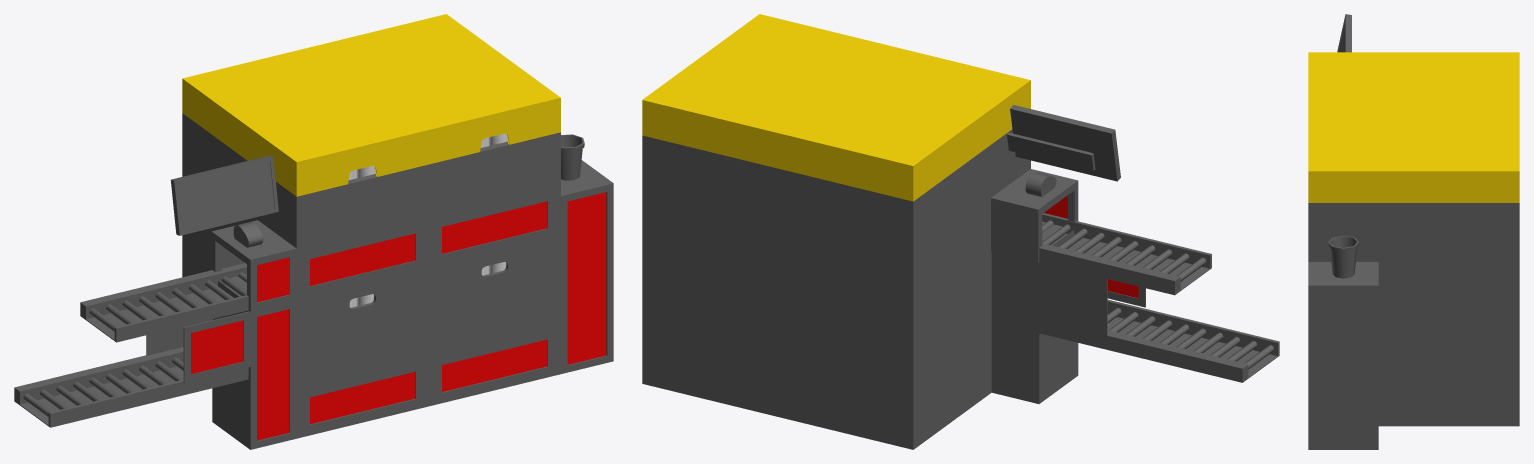
File: verfmachine.fbx
3 views of the same model, side by side, from view 1: azimuth 30°, elevation 25°; view 2: azimuth 150°, elevation 25°; view 3: azimuth 270°, elevation 25° (orthographic). The views are drawn at different scales.
Parts seen in each view (by area): view 1: Cube.005, Cube.003, Cube.004, Cube.001, Cube.002; view 2: Cube.005, Cube.001, Cube.002; view 3: Cube.005, Cube.002, Cube.001.
Boxes of the visible parts, x1=… form: Cube.005: x1=14, y1=14, x2=613, y2=449; Cube.003: x1=296, y1=268, x2=428, y2=438; Cube.004: x1=429, y1=236, x2=560, y2=406; Cube.001: x1=239, y1=88, x2=428, y2=196; Cube.002: x1=372, y1=56, x2=560, y2=164; Cube.005: x1=642, y1=57, x2=1279, y2=449; Cube.001: x1=836, y1=47, x2=1030, y2=158; Cube.002: x1=701, y1=14, x2=894, y2=89; Cube.005: x1=1308, y1=14, x2=1519, y2=449; Cube.002: x1=1308, y1=111, x2=1414, y2=202; Cube.001: x1=1308, y1=52, x2=1414, y2=111.
Size of the model in its own units: 425 by 200 by 150.
